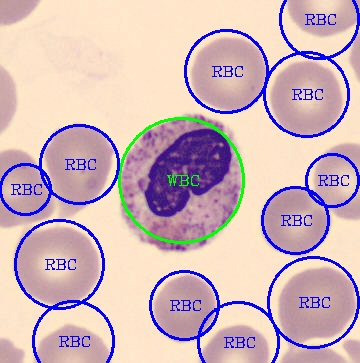RBC: (9, 224, 102, 306), (42, 120, 114, 218), (187, 33, 268, 112), (276, 264, 358, 342), (269, 57, 345, 139), (257, 185, 332, 258), (151, 272, 217, 344), (0, 146, 52, 229), (311, 141, 358, 221), (30, 322, 114, 362), (196, 322, 271, 362), (284, 0, 359, 38)
WBC: (117, 112, 241, 253)
